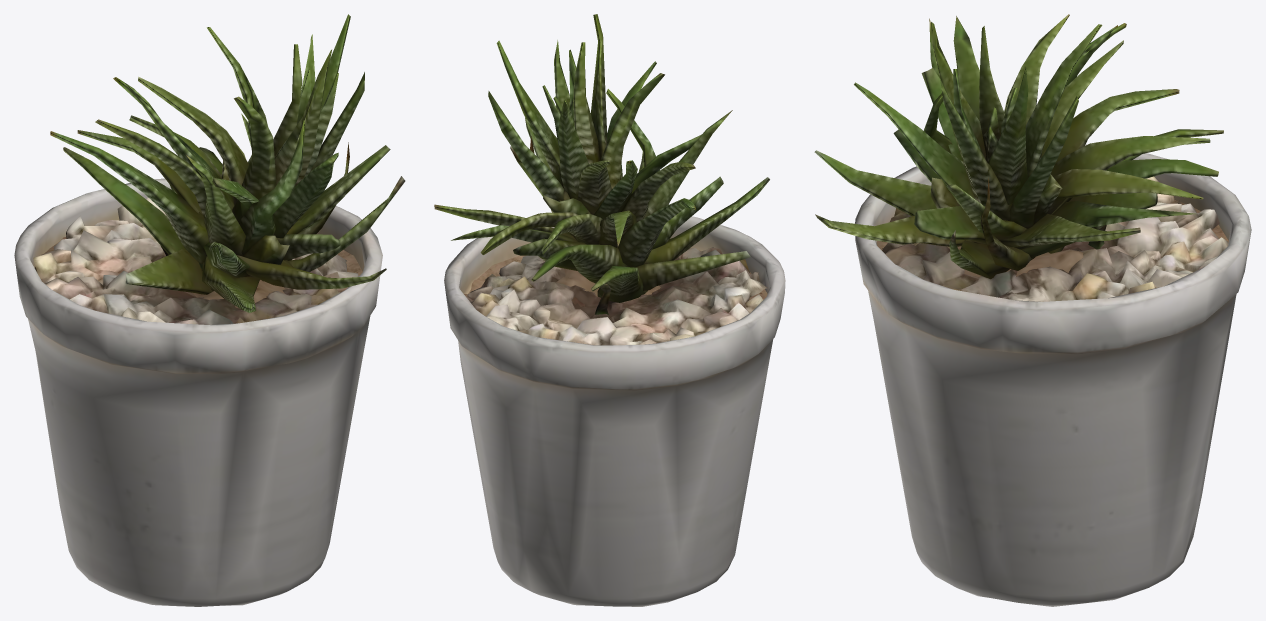
File: planta-pequena.glb
3 renders of one model, left to right at view 1: azimuth 30°, elevation 25°; view 2: azimuth 150°, elevation 25°; view 3: azimuth 270°, elevation 25°, orthographic. The views are drawn at different scales.
Parts seen in each view (by area): view 1: potted_plant_04_ground; view 2: potted_plant_04_ground; view 3: potted_plant_04_ground.
Boxes of the visible parts, <box> form: potted_plant_04_ground: <box>14,14,405,606</box>; potted_plant_04_ground: <box>434,14,785,606</box>; potted_plant_04_ground: <box>814,14,1251,606</box>.
Size of the model in its own units: 0.1672 by 0.2672 by 0.1845.
Materials: 1 (1 with a texture image).
